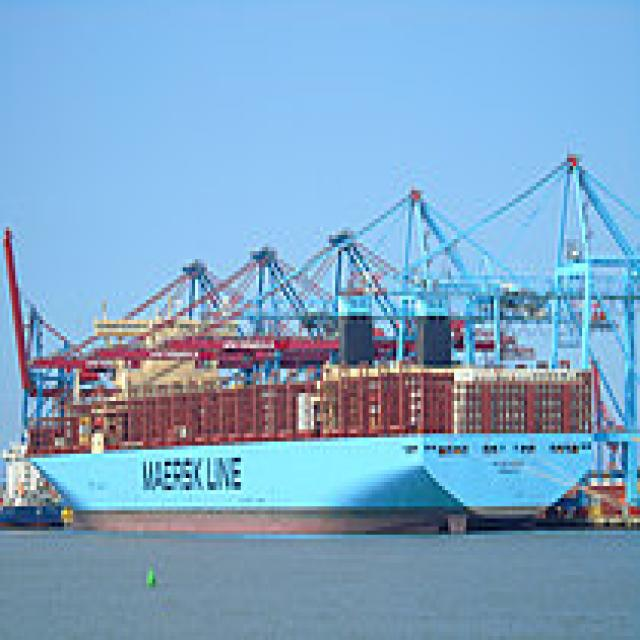Cargo: (15, 292, 598, 534)
